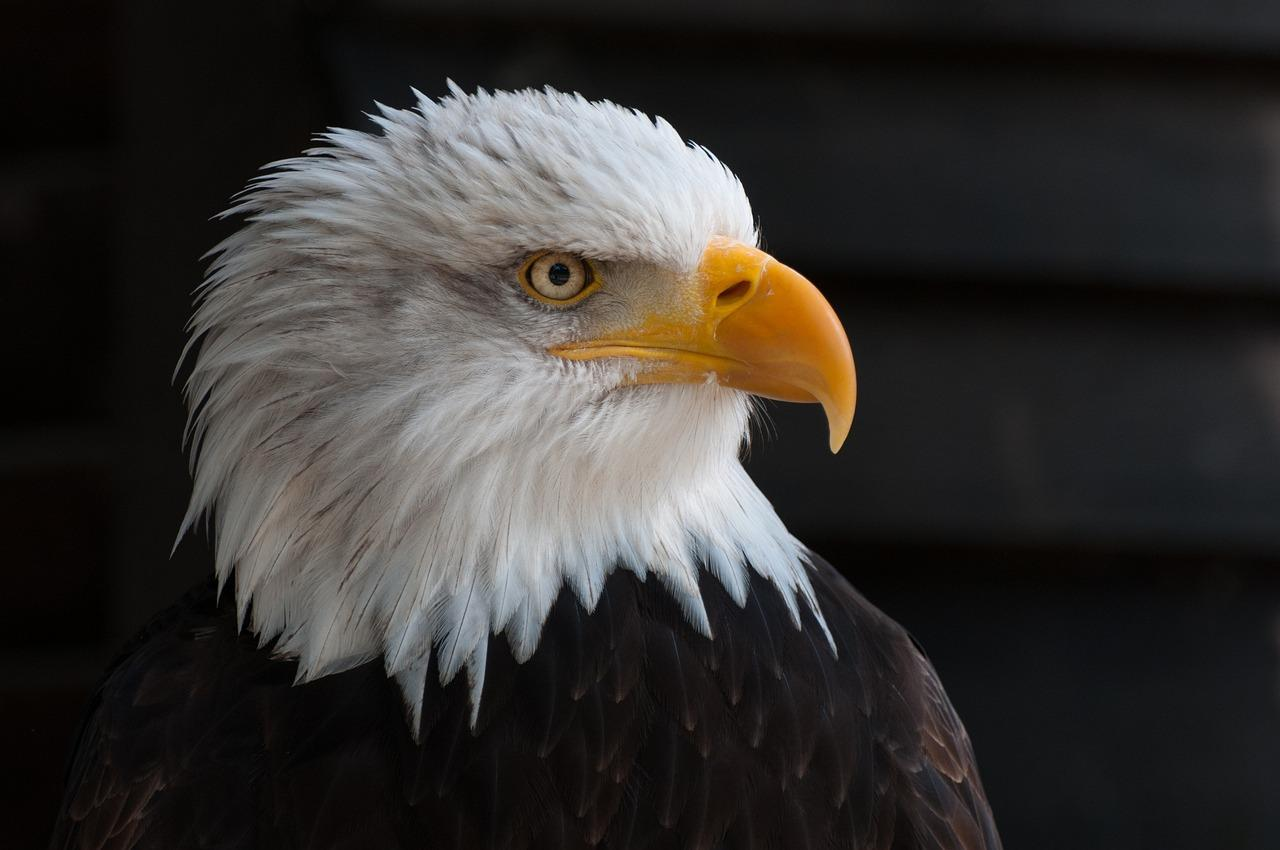bird: (53, 89, 1000, 849)
